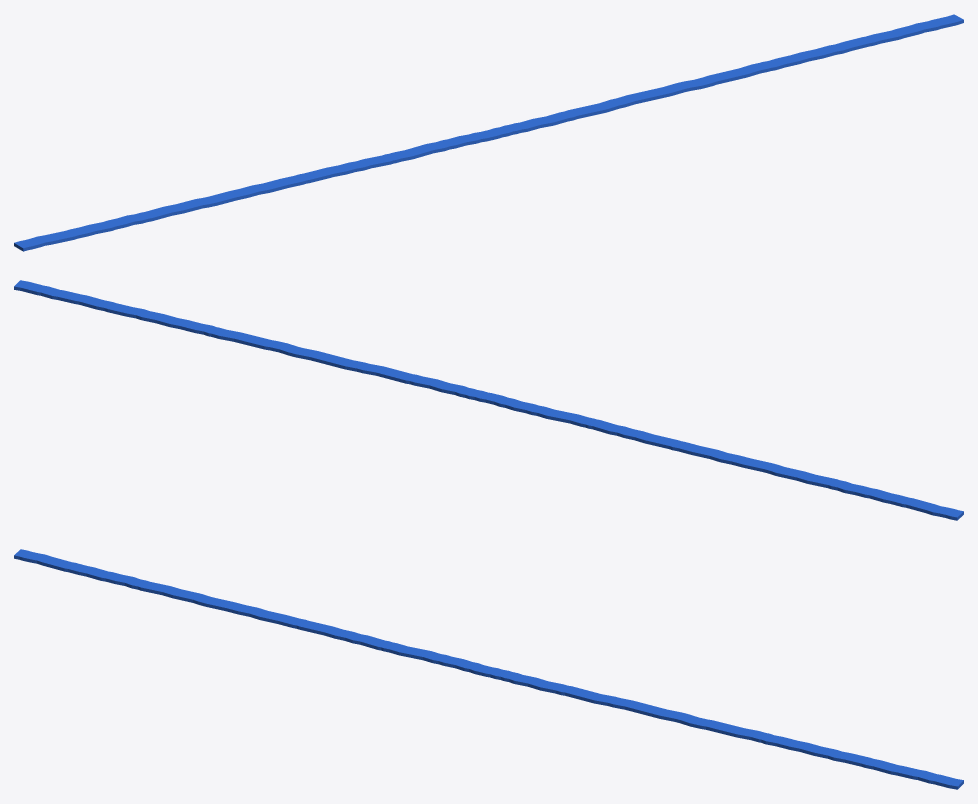
The model's file is river.glb.
3 renders of one model, top to bottom at view 1: azimuth 30°, elevation 25°; view 2: azimuth 150°, elevation 25°; view 3: azimuth 330°, elevation 25°, orthographic.
Parts seen in each view (by area): view 1: world; view 2: world; view 3: world.
Part boxes in pixels (x1,y1,x2,y2): world: (14,14,963,251); world: (14,280,963,520); world: (14,549,963,789).
Size of the model in its own units: 303 by 1 by 6.77.
